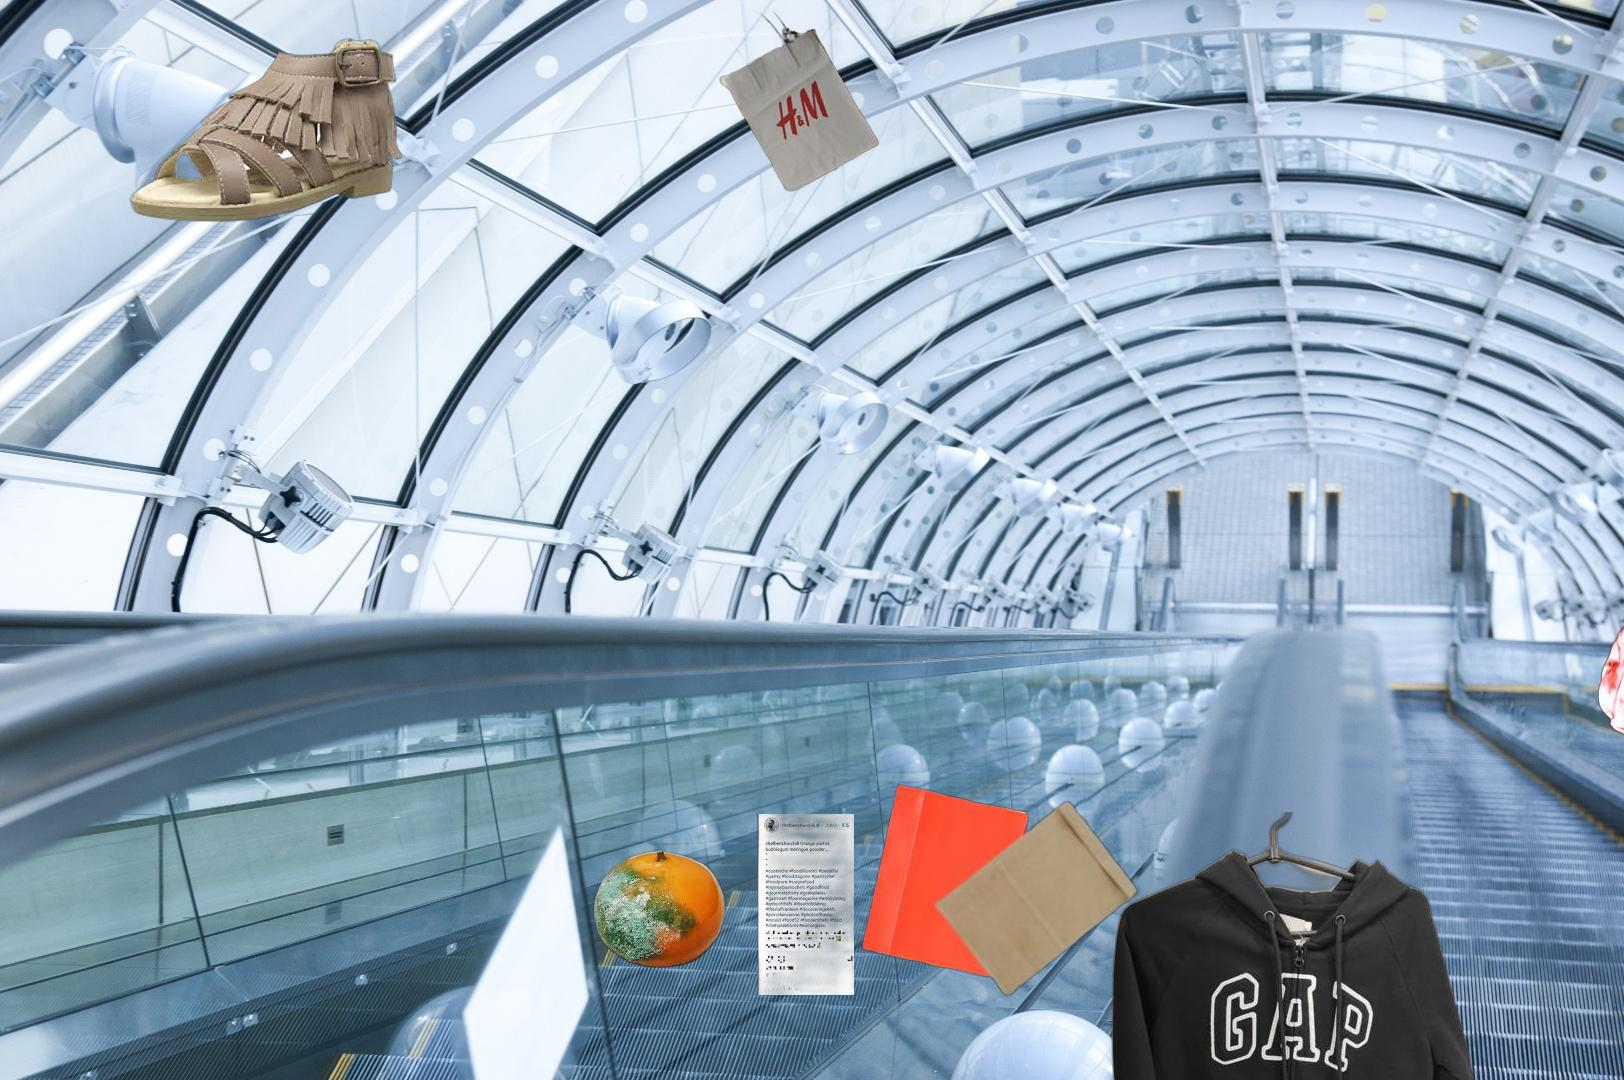biological: (592, 814, 854, 994)
clothes: (1110, 812, 1483, 1080)
paper-bag: (859, 782, 1143, 1002), (717, 8, 882, 193)
plastic-bag: (1595, 533, 1624, 756)
shoes: (129, 39, 404, 222)
